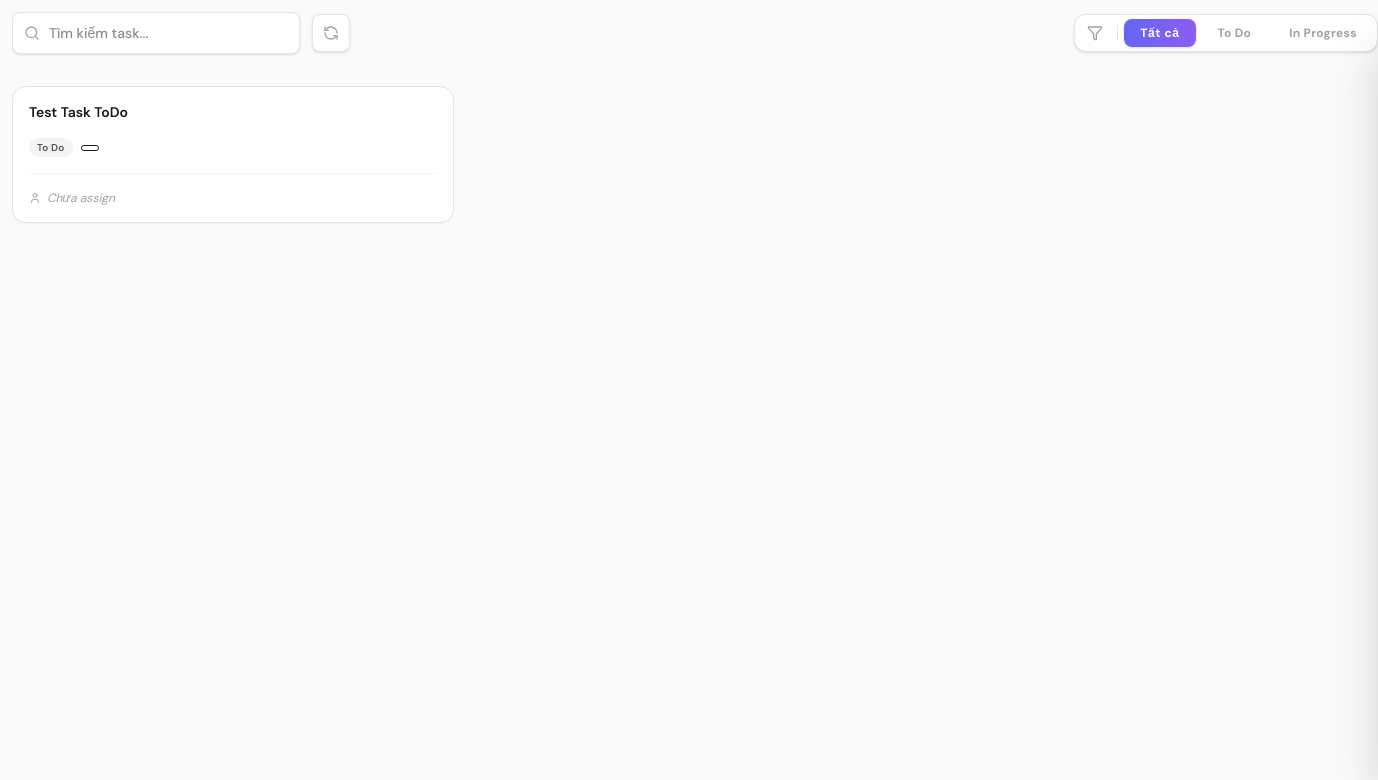
Test case: MyTasksClient › Filter tabs hoạt động
expect the text "Test Task ToDo" is shown: met, box [29,103,128,121]
// Click To Do tab
What coordinates should you click on to do the following:
click the button "To Do"
I would click on:
 (1234, 33)
Its box is [1202,19,1267,47].
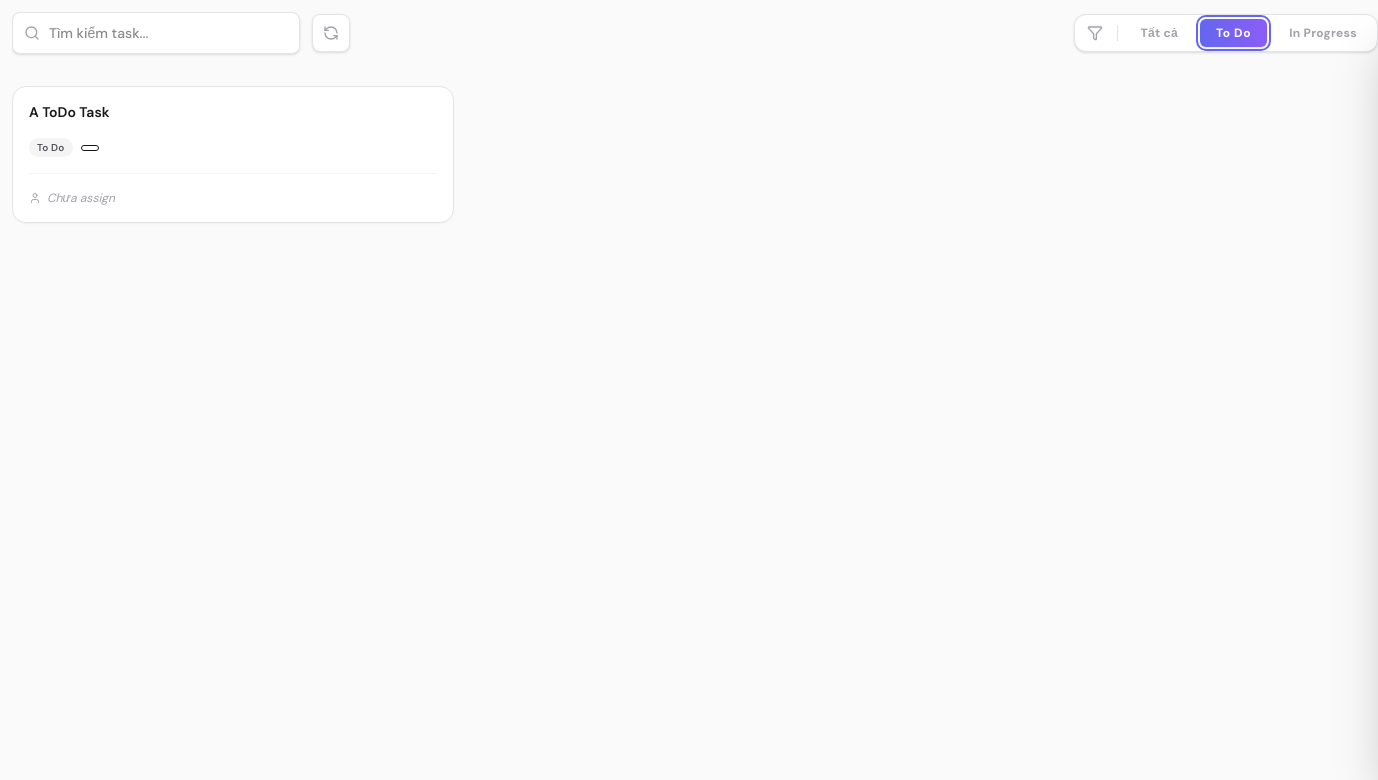
expect the text "A ToDo Task" is shown: met, box [29,103,110,121]
expect the button "Test Task ToDo" is gone: met
// Click In Progress tab
What coordinates should you click on to do the following:
click the button "In Progress"
I would click on:
 (1323, 33)
Its box is [1273,19,1373,47].
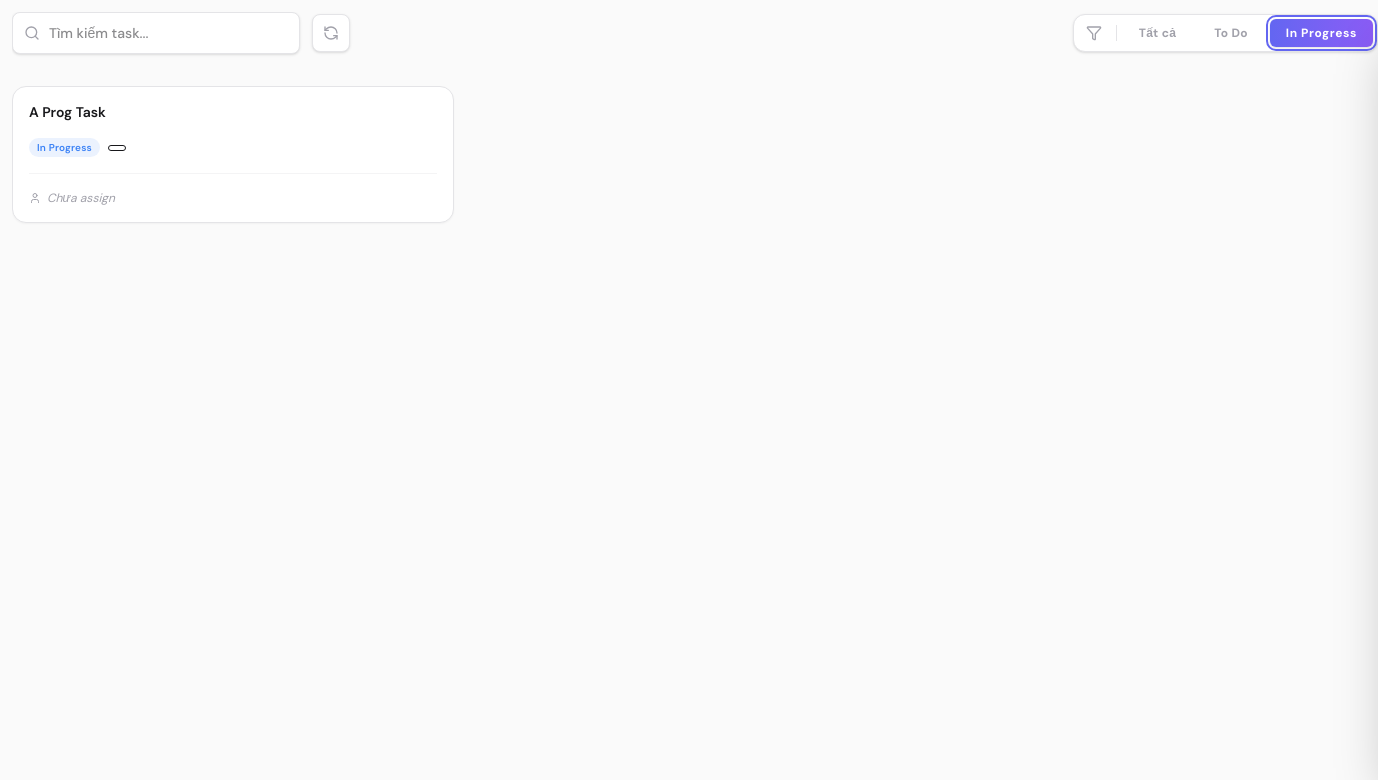
expect the text "A Prog Task" is shown: met, box [29,103,106,121]
expect the button "A ToDo Task" is gone: met
